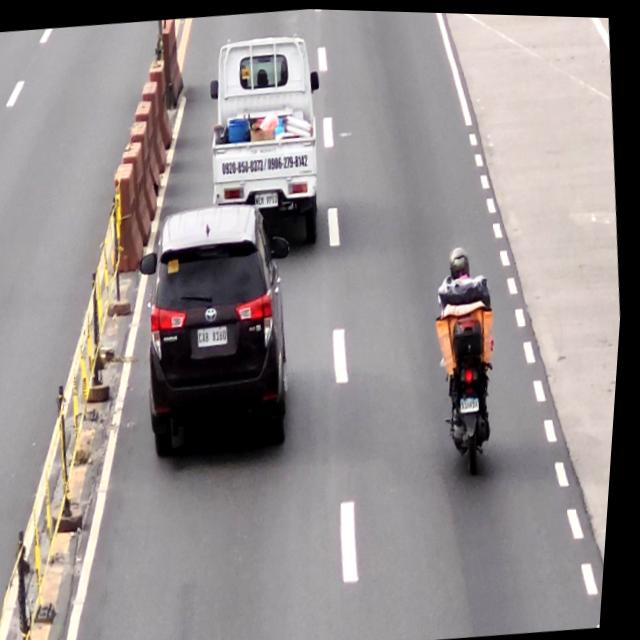Car: (127, 195, 315, 460)
License-Plate: (200, 324, 233, 347), (256, 189, 282, 208), (464, 391, 487, 412)
Motorcycle: (434, 276, 508, 475)
Truck: (193, 26, 341, 254)
